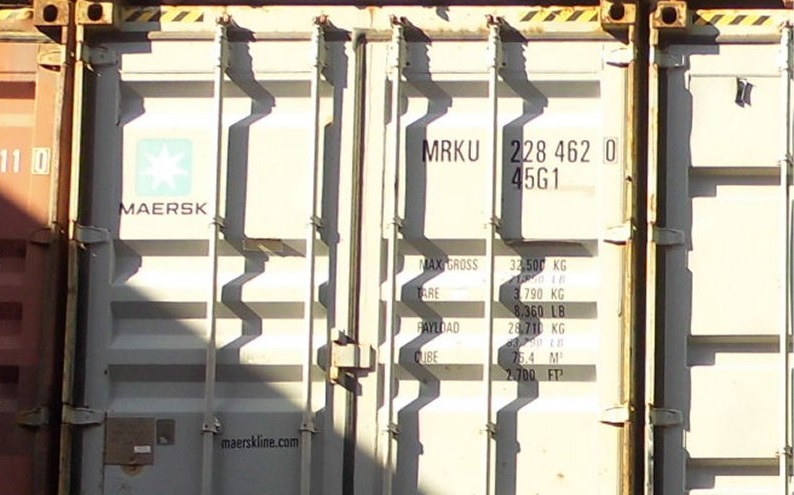container_door: (78, 3, 630, 495)
